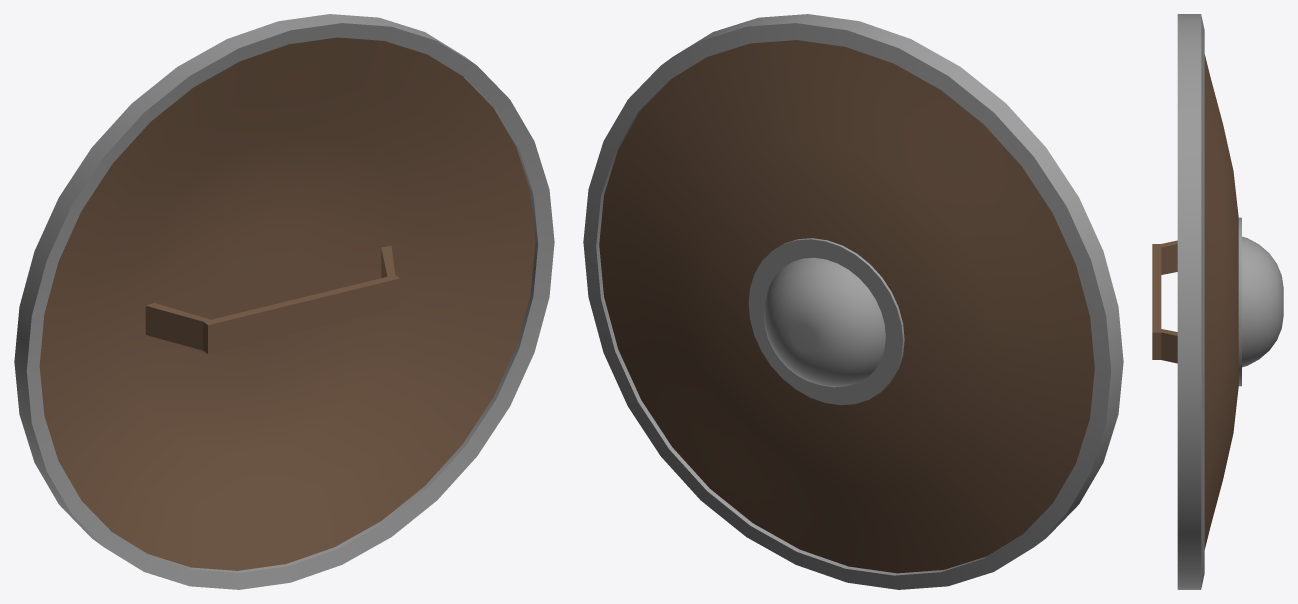
File: wooden_round_shield.gltf
3 views of the same model, side by side, from view 1: azimuth 30°, elevation 25°; view 2: azimuth 150°, elevation 25°; view 3: azimuth 270°, elevation 25° (orthographic). The views are drawn at different scales.
Visible parts, largest first — view 1: Circle; view 2: Circle; view 3: Circle.
Boxes of the visible parts, <box> form: Circle: <box>14,14,554,589</box>; Circle: <box>583,14,1123,589</box>; Circle: <box>1152,14,1283,589</box>.
Size of the model in its own units: 0.5322 by 0.5322 by 0.1213.
